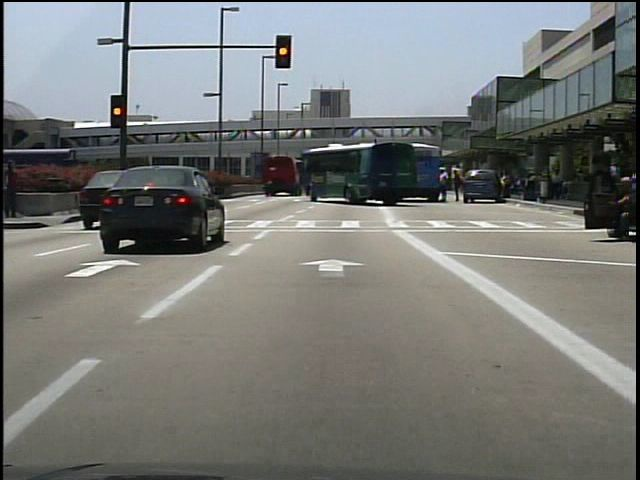person: (596, 176, 637, 239), (450, 166, 464, 204), (436, 167, 450, 203), (498, 169, 510, 201)
